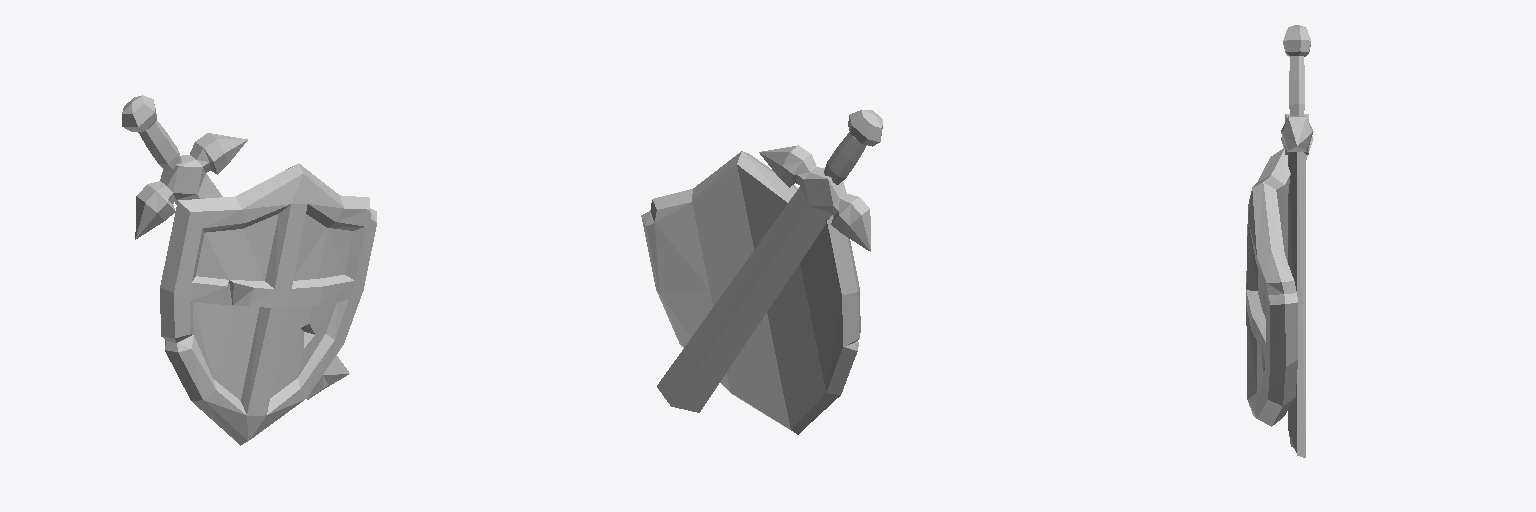
File: sword_shield_broken.obj
3 renders of one model, left to right at view 1: azimuth 30°, elevation 25°; view 2: azimuth 150°, elevation 25°; view 3: azimuth 270°, elevation 25°, orthographic.
Visible parts, largest first — view 1: sword_shield_broken; view 2: sword_shield_broken; view 3: sword_shield_broken.
Part boxes in pixels (bbox=[...]): sword_shield_broken: bbox=[122, 95, 376, 445]; sword_shield_broken: bbox=[641, 110, 882, 434]; sword_shield_broken: bbox=[1246, 25, 1313, 457].
Size of the model in its own units: 1.43 by 1.96 by 0.3357.